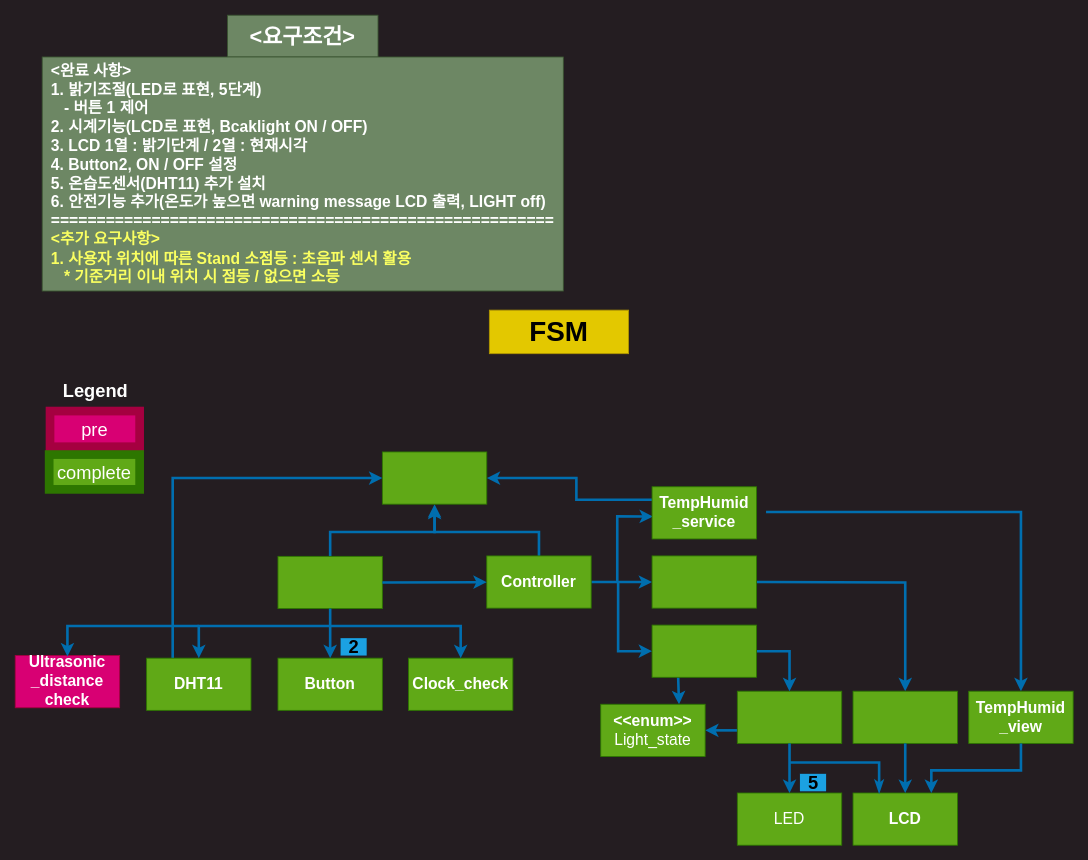
The diagram is 1088 pixels wide and 860 high, and some of its shapes have lost their labels. The shapes that lost their labels are listed below. From the top down, each one's box as (x1, y1, x2, y2) in pixels, then its label:
(381, 451, 487, 504): DHT_Data
(277, 555, 382, 609): Listener
(651, 555, 756, 608): Clock_service
(651, 624, 756, 677): StandLight _service
(736, 690, 842, 743): Light_view
(852, 690, 957, 743): Clock_view
